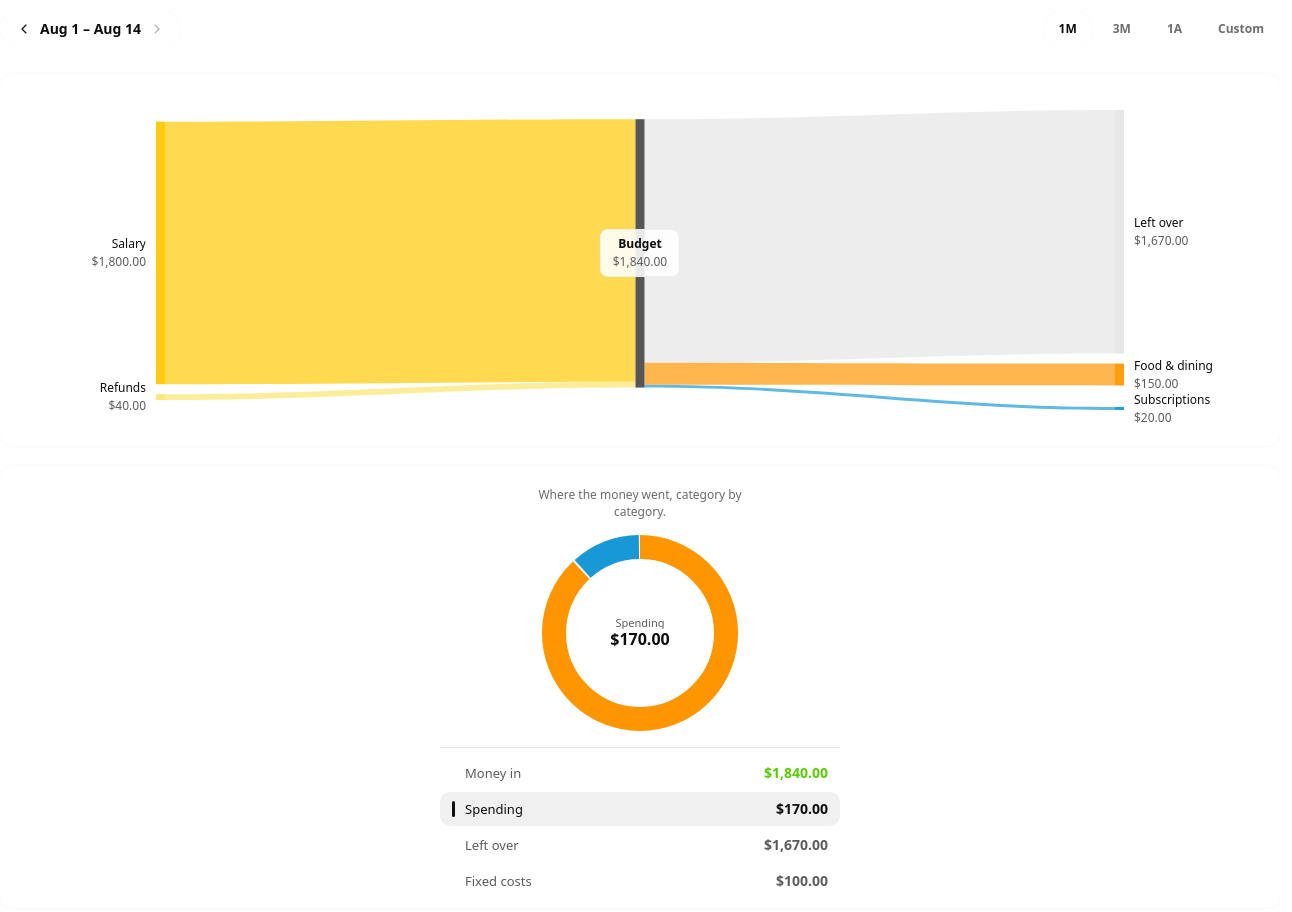
Page Cashflow › déplace la fenêtre sans changer sa longueur
The image size is (1292, 912).
Expected: the button named "Next window" is disabled, [143, 12, 171, 46]
Expected: the text "Aug 1 – Aug 14" is shown, [40, 20, 141, 38]
What coordinates should you click on to do the following:
click the button named "Previous window"
I would click on:
 (24, 29)
Its box is [10, 12, 38, 46].
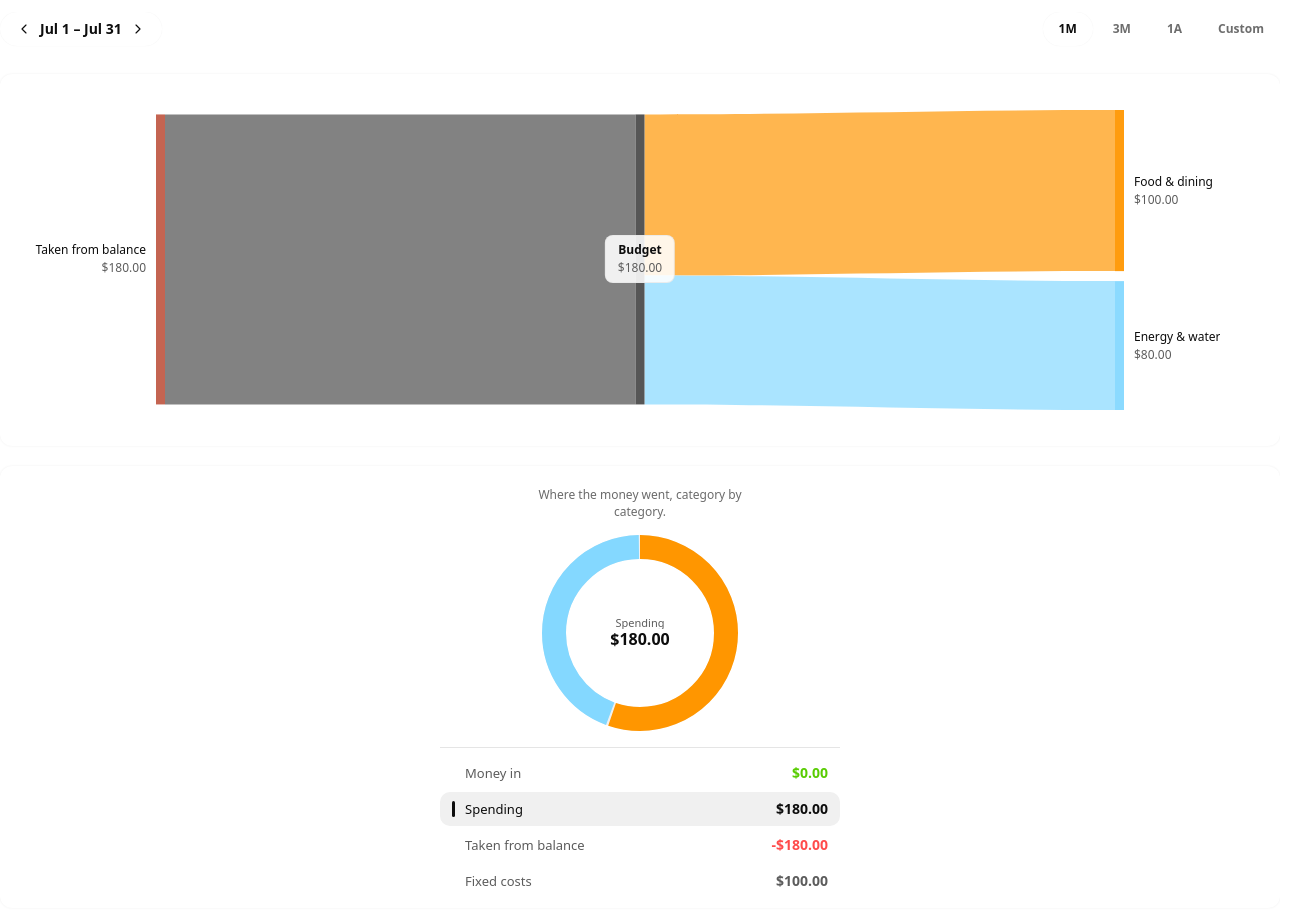
Now the text "Jul 1 – Jul 31" is shown, box [40, 20, 122, 38]
Now the tab "Spending $180.00" is shown, box [440, 792, 840, 826]
Now the button named "Next window" is enabled, box [124, 12, 152, 46]
